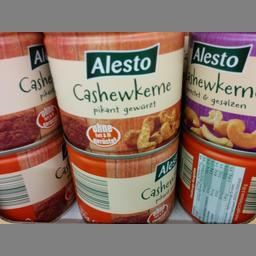nuts: (41, 30, 185, 156), (60, 135, 178, 223), (178, 32, 255, 153), (176, 126, 255, 223)
